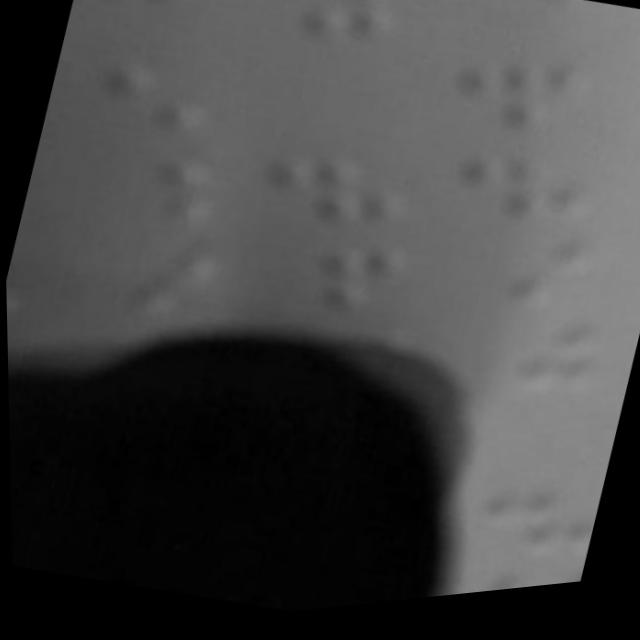braiile: (36, 38, 229, 187), (235, 118, 423, 263), (434, 304, 626, 439), (426, 126, 610, 263), (430, 35, 605, 176), (435, 219, 614, 353), (246, 216, 424, 346), (454, 471, 599, 591), (240, 0, 410, 70), (62, 0, 206, 73), (450, 555, 579, 604)
